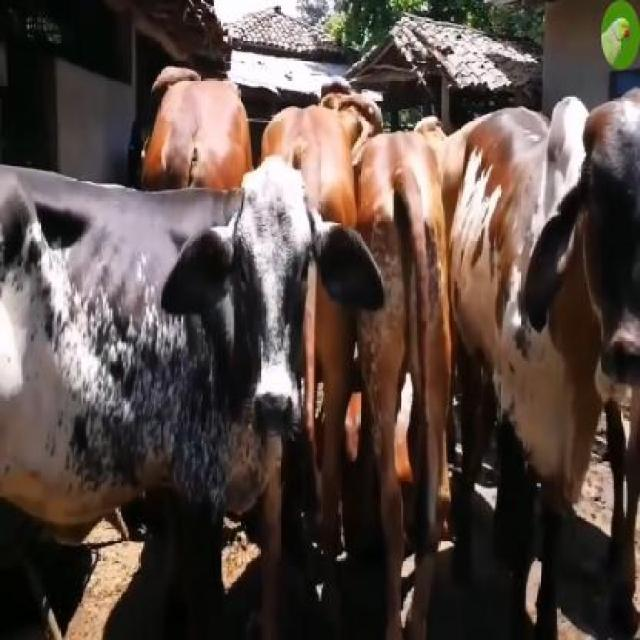Cow: (0, 160, 388, 638)
